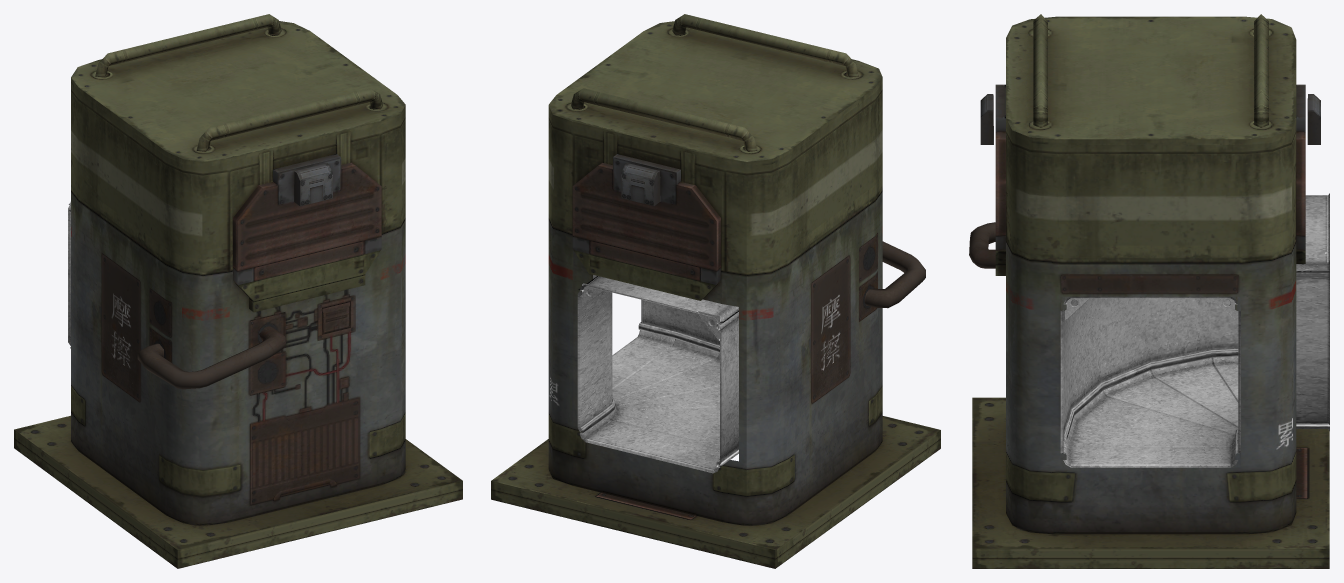
Rendered from 02_07_generator_hidden_entrance.dae.
The picture shows the model from 3 angles, left to right: view 1: azimuth 30°, elevation 25°; view 2: azimuth 150°, elevation 25°; view 3: azimuth 270°, elevation 25°; orthographic projection. The views are drawn at different scales.
Visible parts, largest first — view 1: generator_radio; view 2: generator_radio, Geometry_mesh064Node; view 3: generator_radio, Geometry_mesh064Node.
Part boxes in pixels (x1,y1,x2,y2): generator_radio: [14, 14, 462, 568]; generator_radio: [491, 14, 940, 568]; Geometry_mesh064Node: [577, 275, 738, 473]; generator_radio: [969, 14, 1329, 568]; Geometry_mesh064Node: [1060, 193, 1329, 467].
Bounding box in the file's own units: 3.12 × 4.22 × 3.15.
